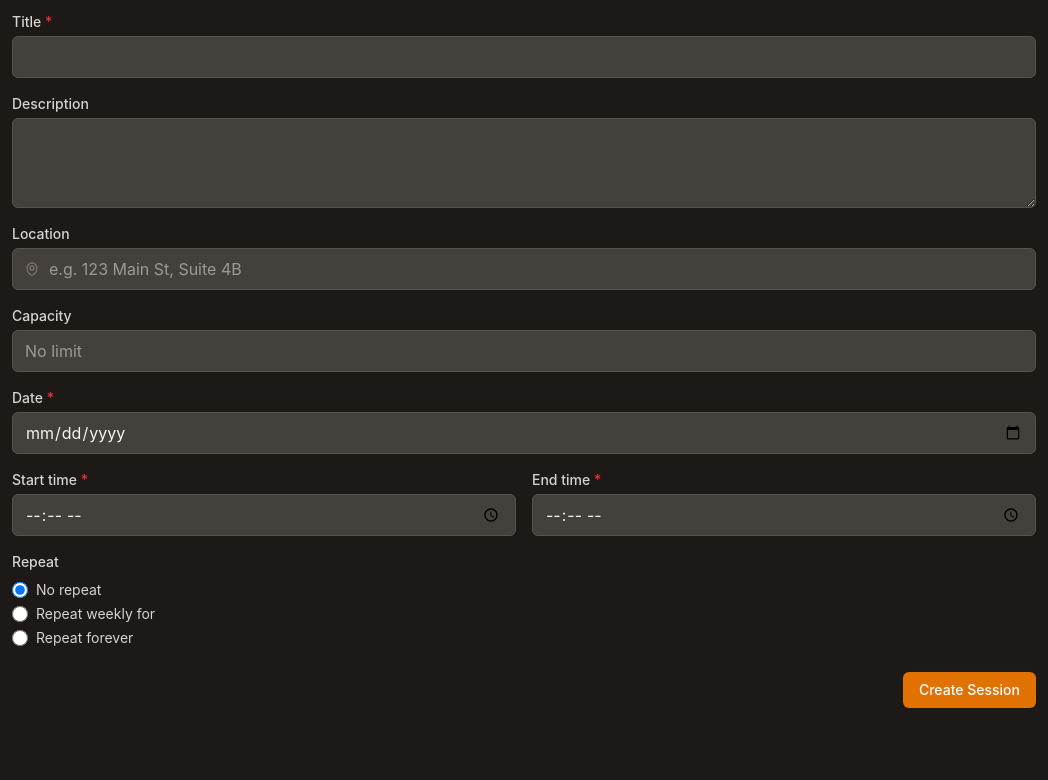
SessionForm › create mode › validates required fields on submit
Click the button "Create Session" at (969, 690), box [903,672,1036,708]
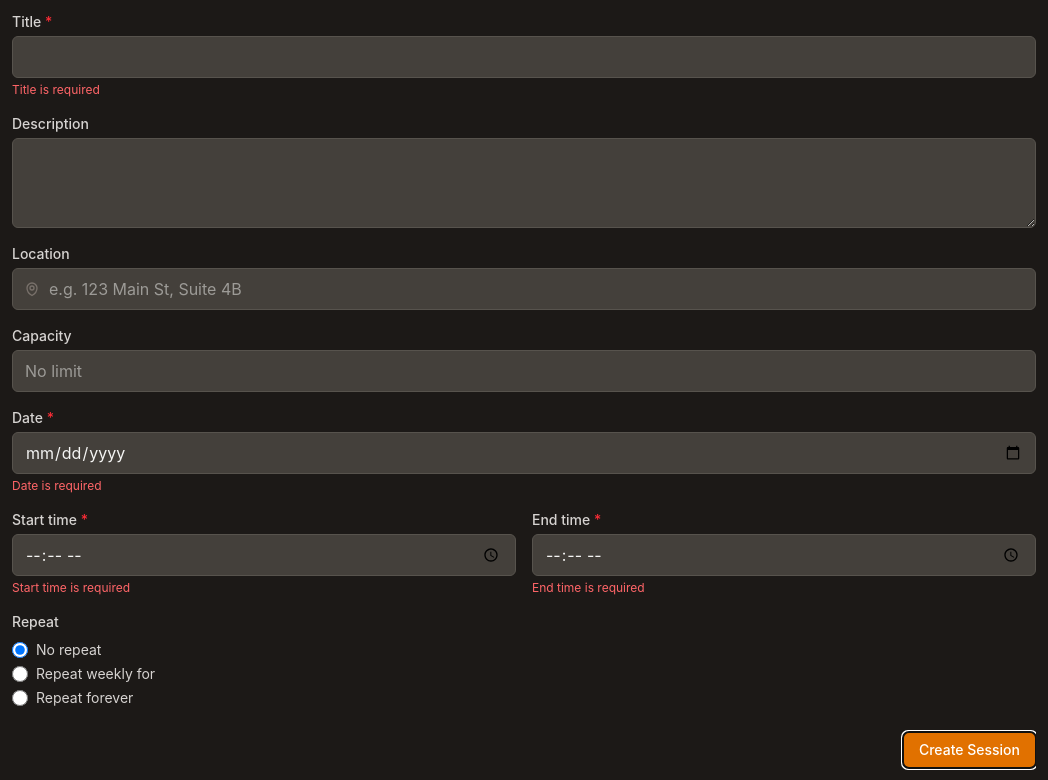
Check: the text "Title is required" is shown, box [12,82,100,97]
Check: the text "Date is required" is shown, box [12,478,102,493]
Check: the text "Start time is required" is shown, box [12,580,130,595]
